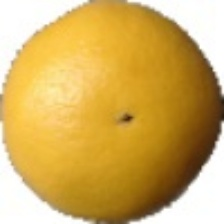grapes: (11, 52, 188, 193)
